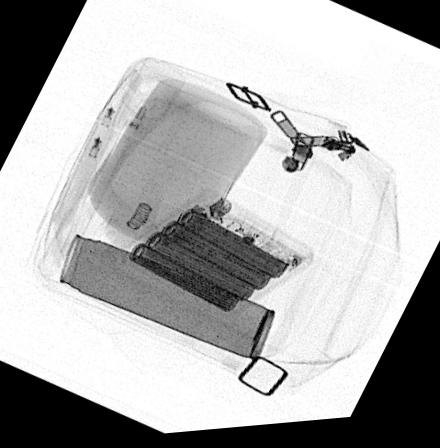Powerbank: (122, 193, 315, 324)
